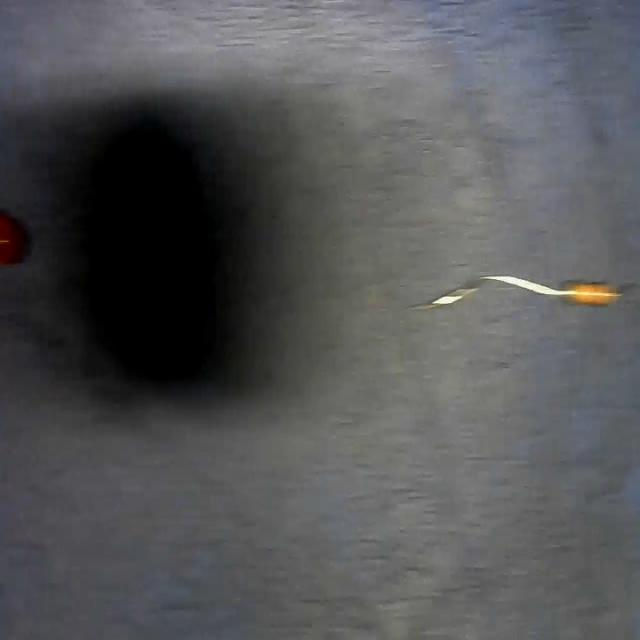resistor: (414, 261, 640, 324)
